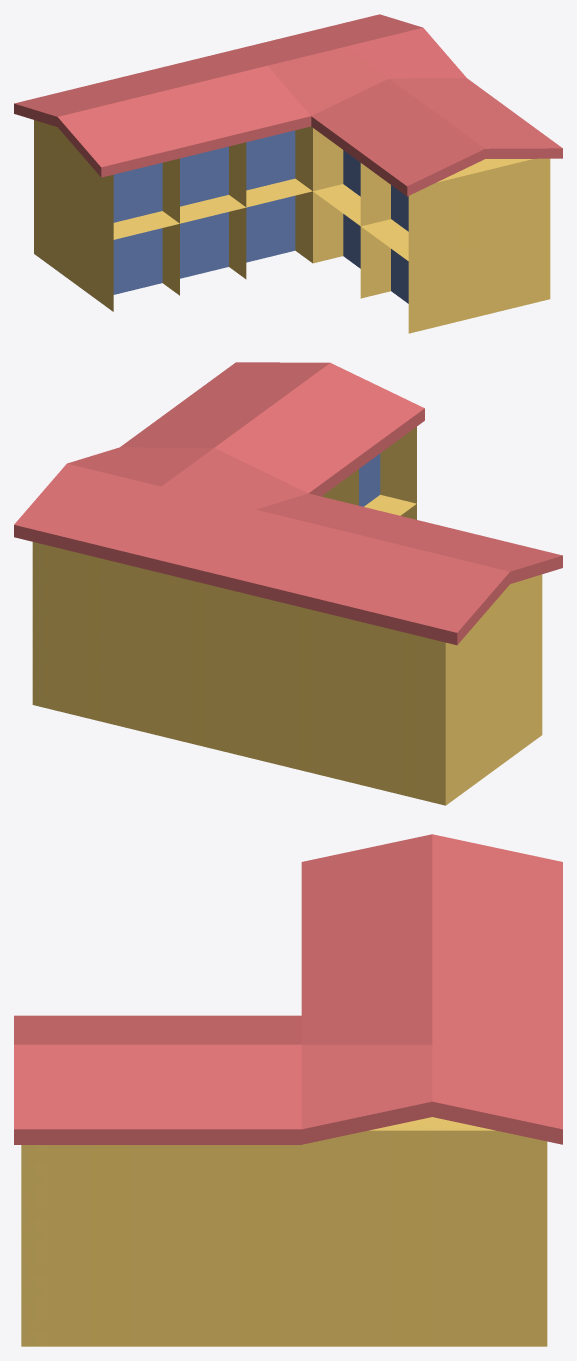
File: Apartments.fbx
3 views of the same model, one above another, from view 1: azimuth 30°, elevation 25°; view 2: azimuth 150°, elevation 25°; view 3: azimuth 270°, elevation 25° (orthographic). The views are drawn at different scales.
Parts seen in each view (by area): view 1: Cube.043; view 2: Cube.043; view 3: Cube.043.
Part boxes in pixels (x1=…): Cube.043: x1=14, y1=14, x2=562, y2=333; Cube.043: x1=14, y1=362, x2=562, y2=805; Cube.043: x1=14, y1=834, x2=562, y2=1346.
Bounding box in the file's own units: 2707 × 1192 × 2348.
